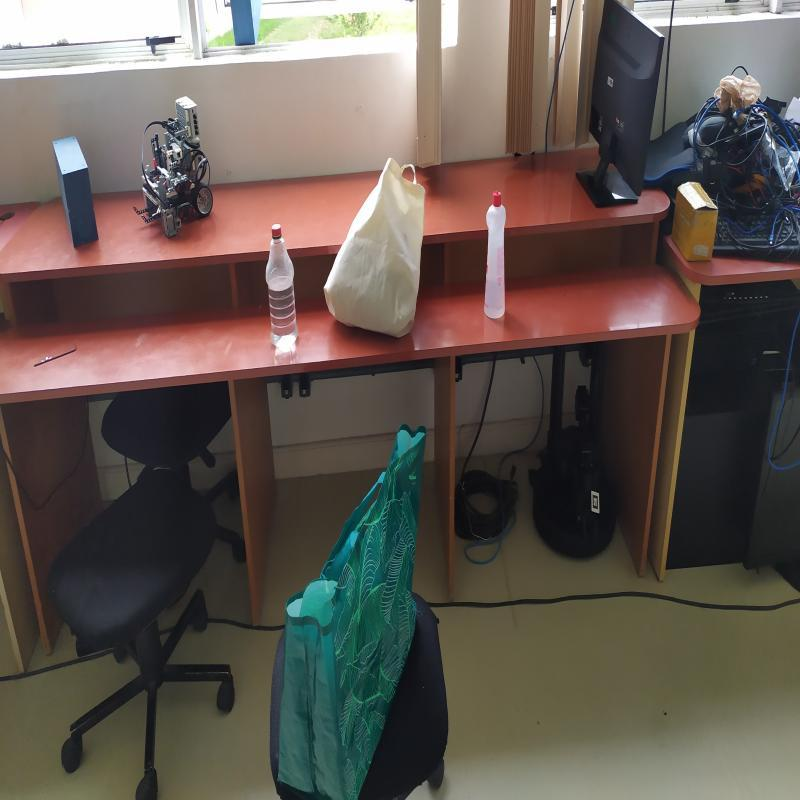Bag: (279, 417, 428, 800), (322, 157, 428, 343)
